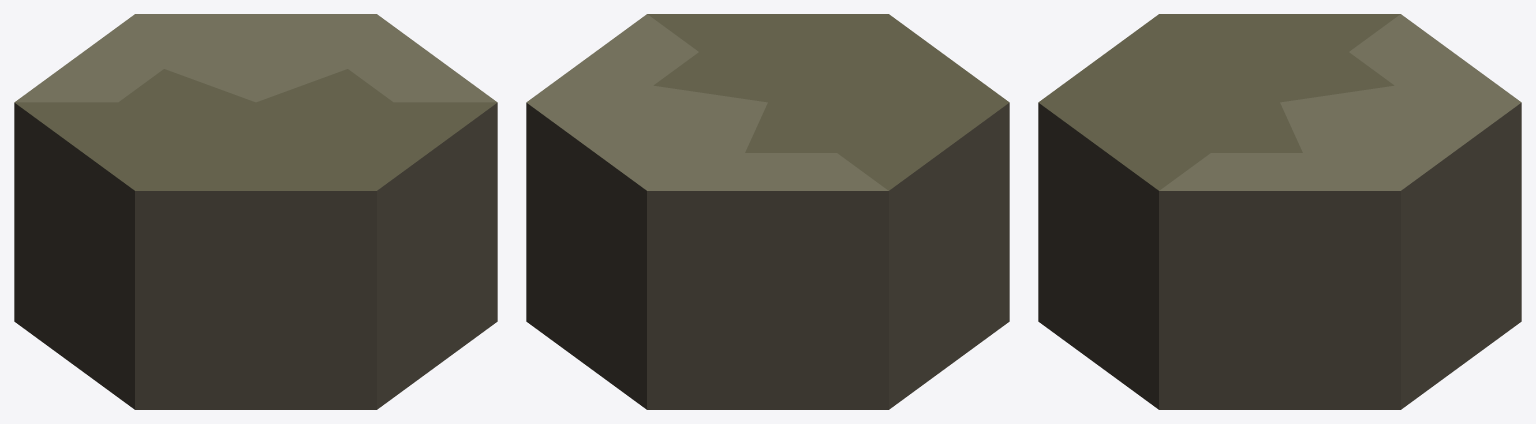
Rendered from AE_Hex_Swamp_Silt.fbx.
The picture shows the model from 3 angles, left to right: view 1: azimuth 30°, elevation 25°; view 2: azimuth 150°, elevation 25°; view 3: azimuth 270°, elevation 25°; orthographic projection.
Parts seen in each view (by area): view 1: AE_Hex_Swamp_Silt; view 2: AE_Hex_Swamp_Silt; view 3: AE_Hex_Swamp_Silt.
Part boxes in pixels (x1,y1,x2,y2): AE_Hex_Swamp_Silt: (14,14,497,409); AE_Hex_Swamp_Silt: (526,14,1009,409); AE_Hex_Swamp_Silt: (1038,14,1521,409).
Bounding box in the file's own units: 1.73 × 1 × 2.
